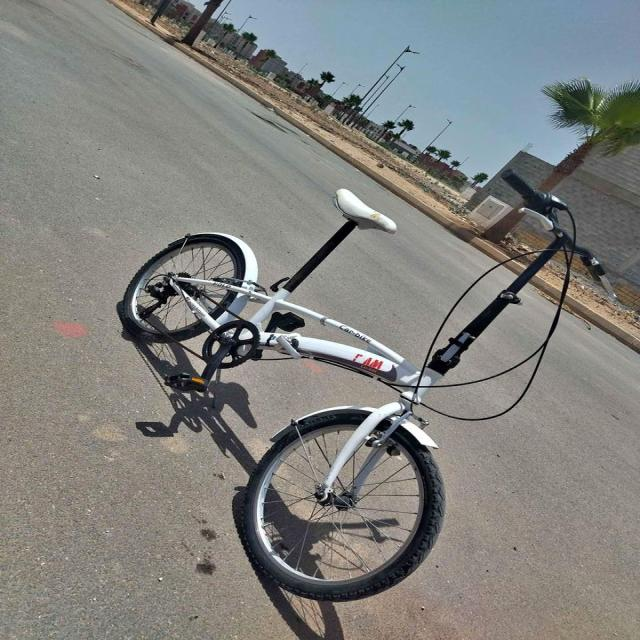Tree: (540, 77, 640, 191)
